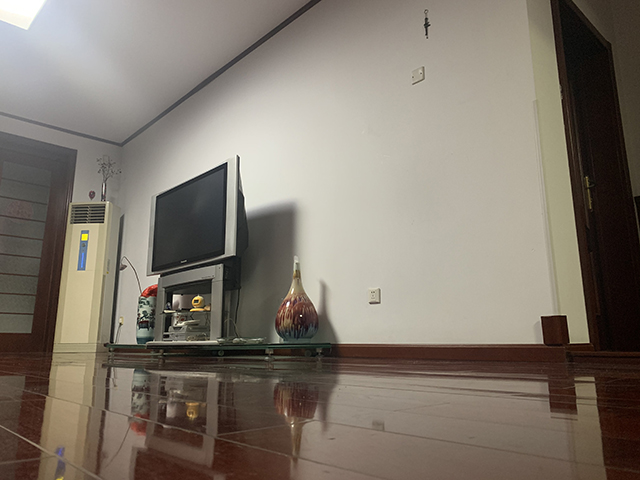cabinet: (103, 263, 333, 362)
